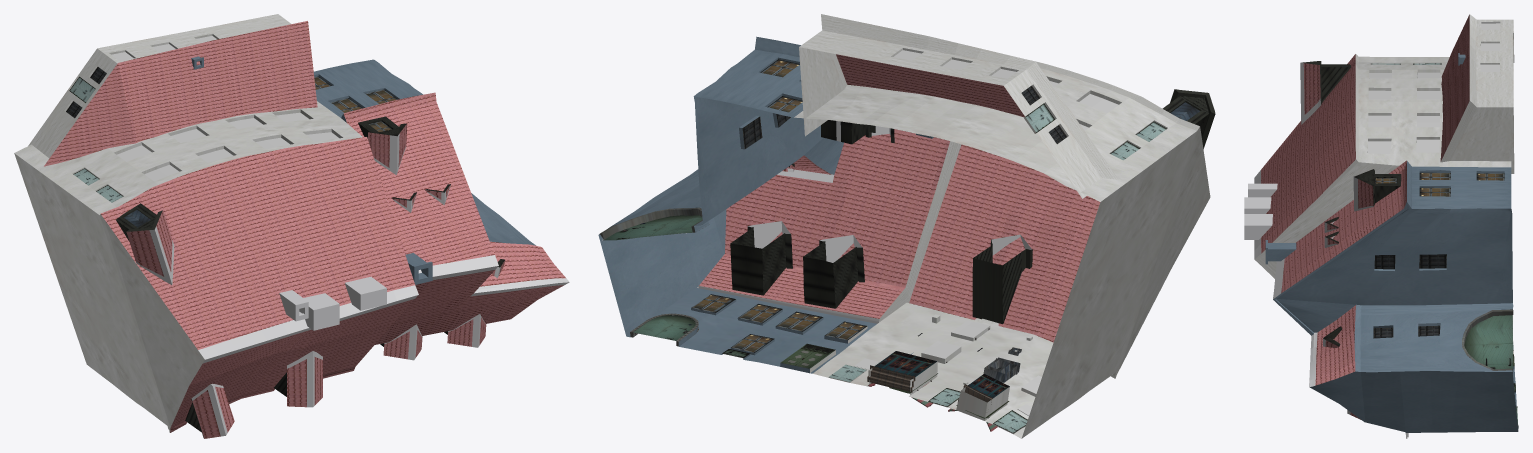
The model's file is Pyhavaimu_15.obj.
3 renders of one model, left to right at view 1: azimuth 30°, elevation 25°; view 2: azimuth 150°, elevation 25°; view 3: azimuth 270°, elevation 25°, orthographic. The views are drawn at different scales.
Visible parts, largest first — view 1: polySurface219; view 2: polySurface219; view 3: polySurface219.
Boxes of the visible parts, x1,y1,x2,y2 form: polySurface219: (14,14,569,438); polySurface219: (598,14,1215,438); polySurface219: (1244,14,1518,438).
Size of the model in its own units: 29.76 by 20.67 by 17.84.
